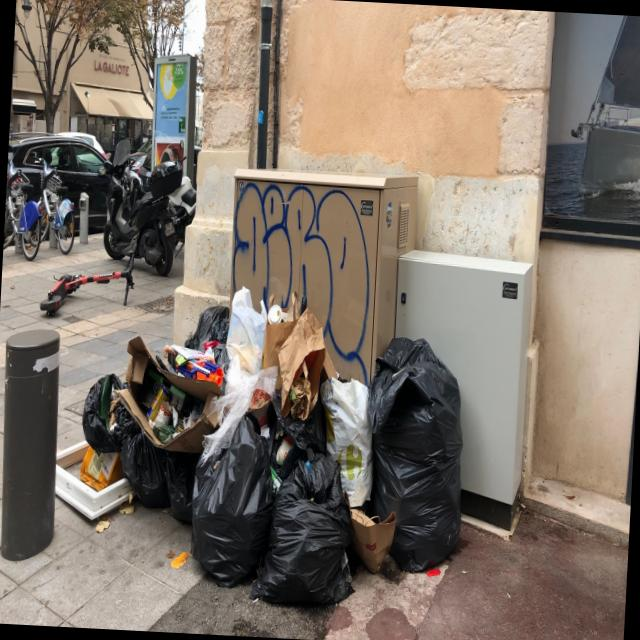garbage: (59, 239, 494, 622)
